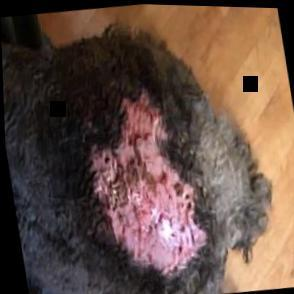skin_lesions: (72, 75, 215, 284)
